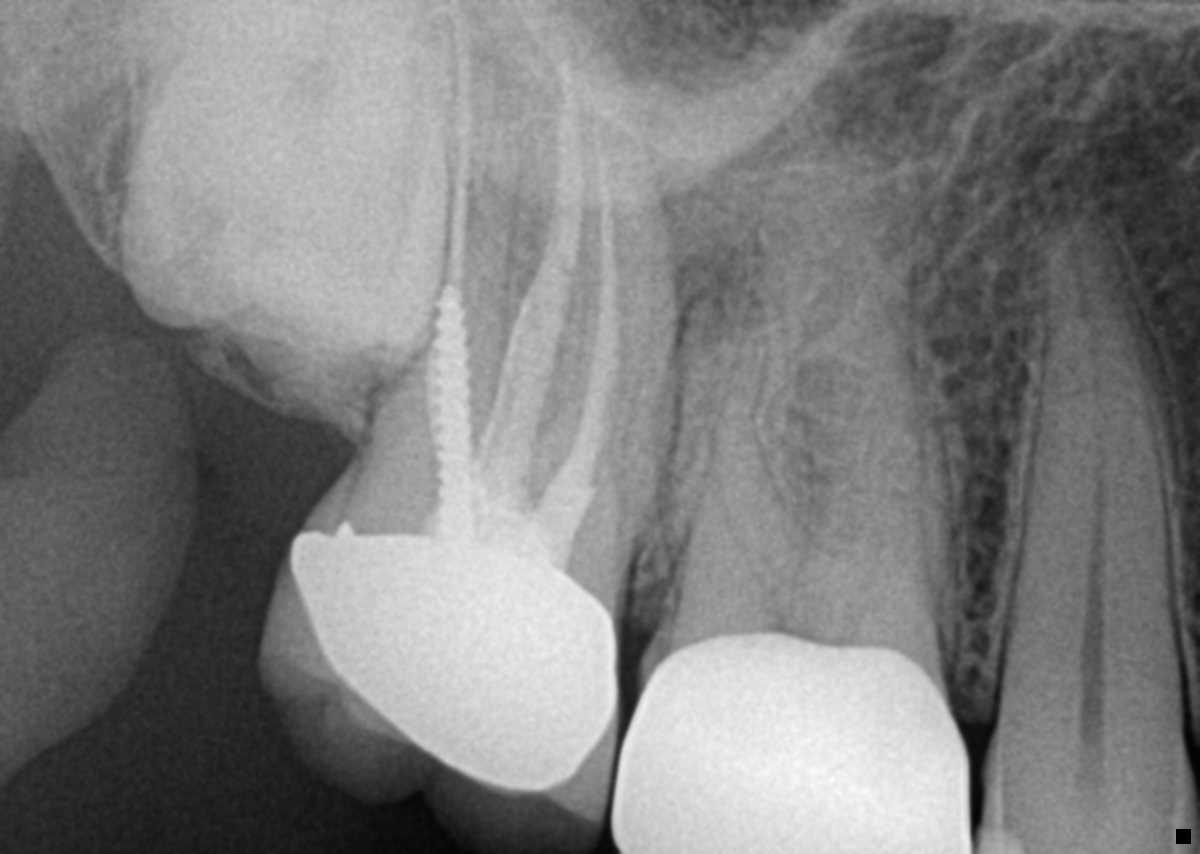Apical Lesion: (666, 245, 767, 325)
Distal Canal: (711, 463, 776, 600)
Distal Root: (357, 50, 523, 545), (651, 293, 810, 648)
Main Canal: (1074, 272, 1107, 701)
Main Root: (994, 211, 1182, 712)
Mesial Root: (514, 60, 670, 558), (789, 277, 953, 668)
Palatal Root: (642, 134, 932, 670), (406, 17, 675, 572)
Root Canal Filling: (460, 19, 584, 518), (524, 101, 621, 552), (428, 62, 481, 526)
